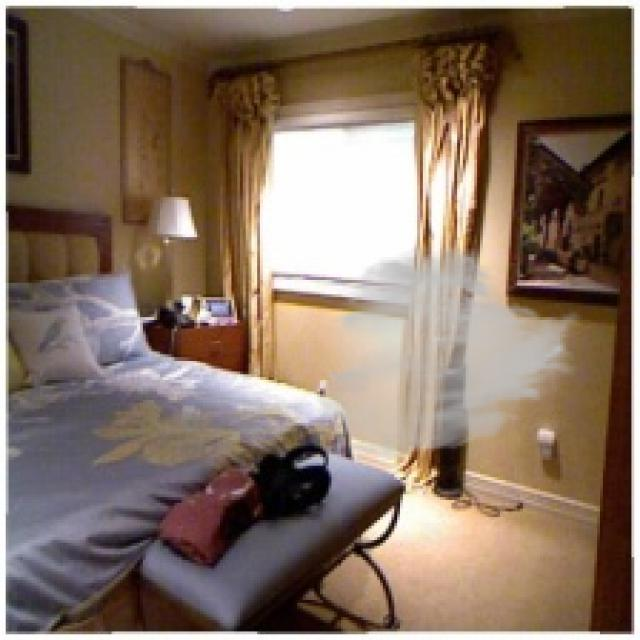smoke: (311, 243, 586, 460)
